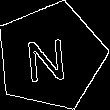N_N: (28, 30, 74, 83)
